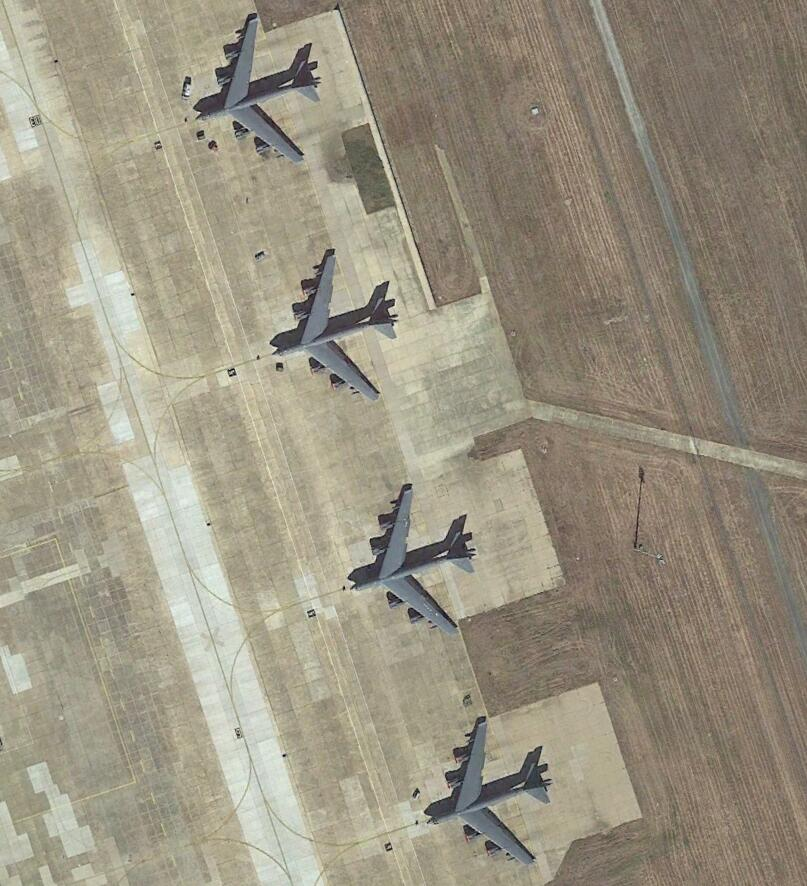A8: (183, 13, 334, 167), (416, 713, 561, 871), (265, 250, 407, 406), (347, 477, 483, 639)
